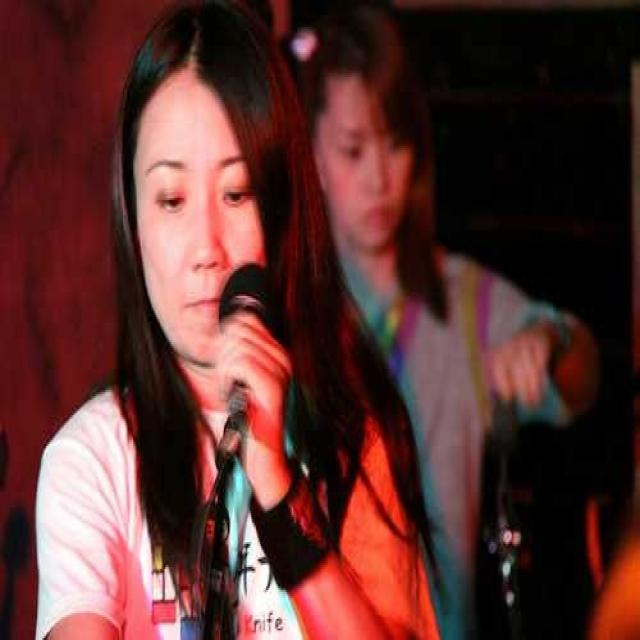microphone: (216, 261, 285, 458)
